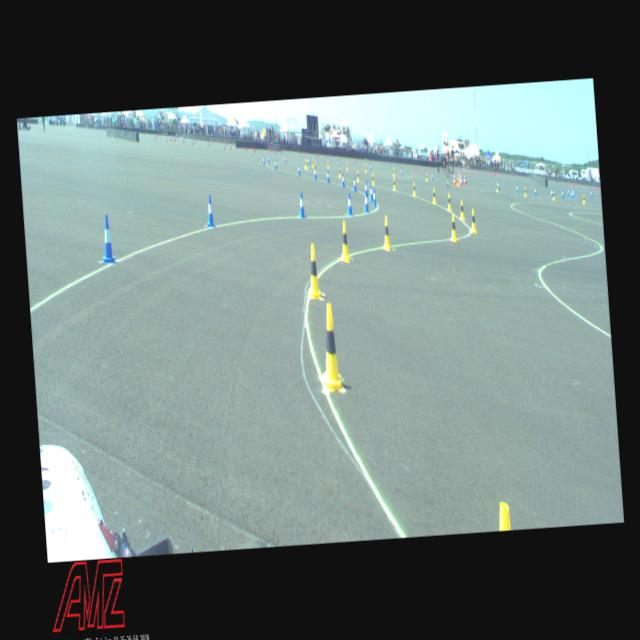blue_cone: (99, 214, 115, 262), (204, 194, 214, 228), (298, 190, 306, 218), (346, 192, 352, 214), (362, 192, 368, 212), (371, 186, 376, 206), (363, 178, 368, 196), (368, 183, 373, 200), (352, 175, 356, 191), (340, 172, 344, 186), (326, 168, 330, 182), (297, 163, 300, 176), (266, 154, 270, 162), (368, 163, 372, 171), (313, 168, 316, 178), (336, 158, 339, 168), (430, 170, 433, 180), (533, 186, 536, 196), (561, 189, 564, 199), (283, 154, 286, 163), (345, 161, 348, 170), (569, 189, 572, 198), (400, 167, 403, 176), (566, 188, 569, 196), (572, 190, 575, 198), (274, 160, 276, 170), (262, 155, 264, 165), (516, 184, 518, 194), (590, 188, 592, 198), (308, 156, 310, 165)
large_orange_cone: (458, 172, 462, 186), (462, 172, 466, 185), (452, 172, 455, 185), (458, 170, 460, 183), (460, 175, 462, 184)
yellow_cone: (316, 303, 344, 393), (306, 242, 322, 300), (338, 220, 350, 262), (381, 214, 391, 250), (449, 213, 458, 242), (468, 208, 476, 232), (458, 198, 464, 220), (446, 192, 452, 212), (431, 187, 436, 204), (411, 180, 416, 197), (356, 168, 360, 182), (392, 177, 396, 190), (371, 172, 375, 185), (304, 158, 308, 169), (424, 172, 428, 180), (495, 182, 498, 192), (392, 167, 395, 176), (524, 186, 526, 198), (338, 166, 340, 177), (314, 161, 316, 172), (552, 190, 554, 201), (312, 158, 314, 168), (456, 176, 458, 186), (582, 194, 584, 204), (326, 159, 328, 168), (364, 164, 366, 172)
